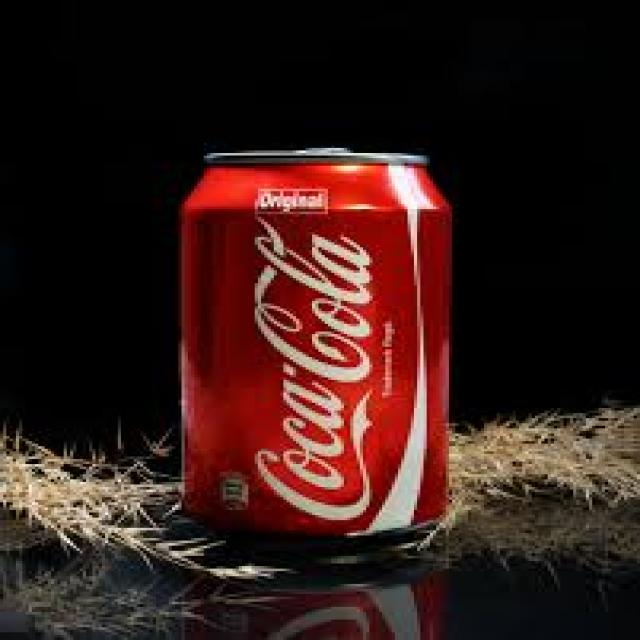Cans: (162, 138, 472, 556)
